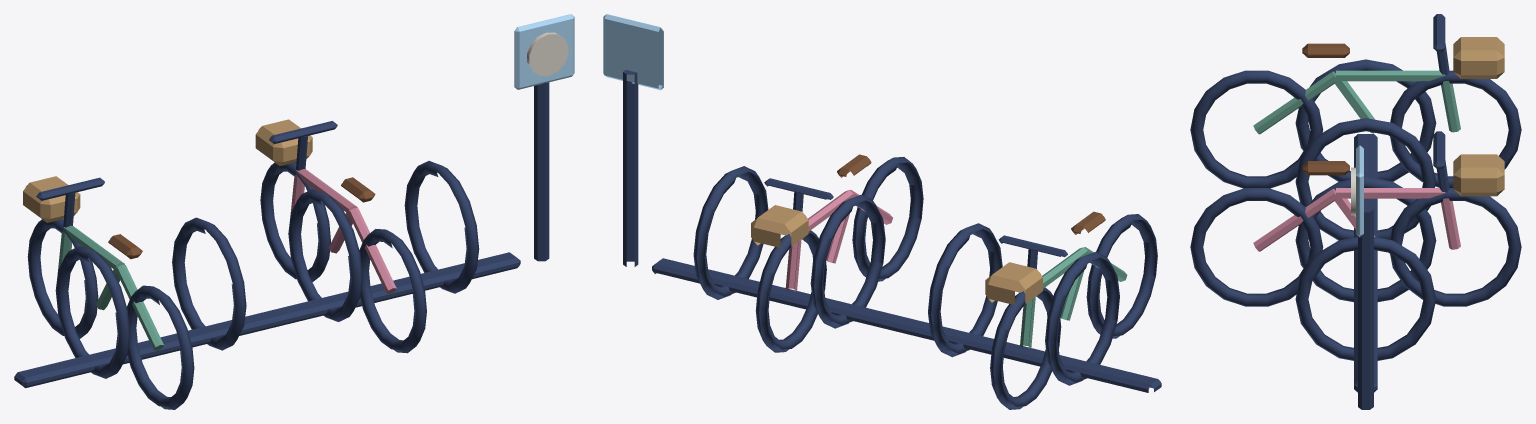
The model's file is ac_bikerack.glb.
3 views of the same model, side by side, from view 1: azimuth 30°, elevation 25°; view 2: azimuth 150°, elevation 25°; view 3: azimuth 270°, elevation 25° (orthographic). The views are drawn at different scales.
Parts seen in each view (by area): view 1: body; view 2: body; view 3: body.
Part boxes in pixels (<box>): body: <box>14,14,574,409</box>; body: <box>603,14,1161,409</box>; body: <box>1190,14,1521,409</box>.
Bounding box in the file's own units: 3.33 × 1.42 × 1.67.
